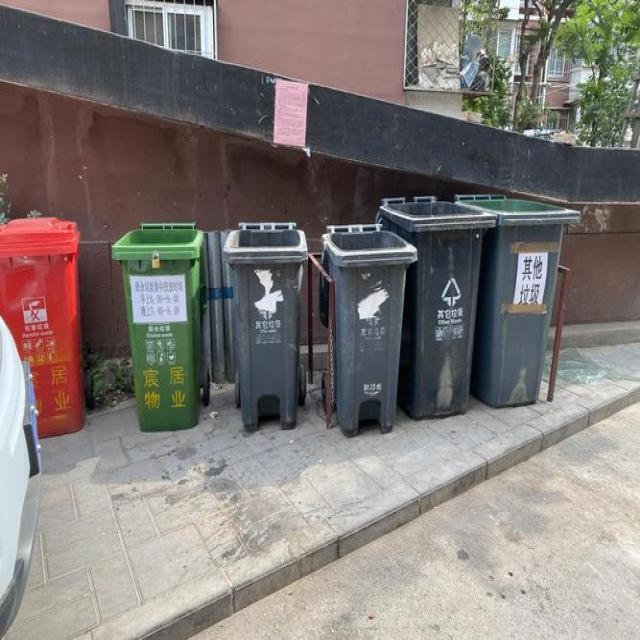garbage_bin: (454, 192, 578, 408), (376, 196, 494, 421), (318, 220, 416, 434), (108, 220, 204, 430), (0, 216, 83, 437), (222, 222, 307, 430)
